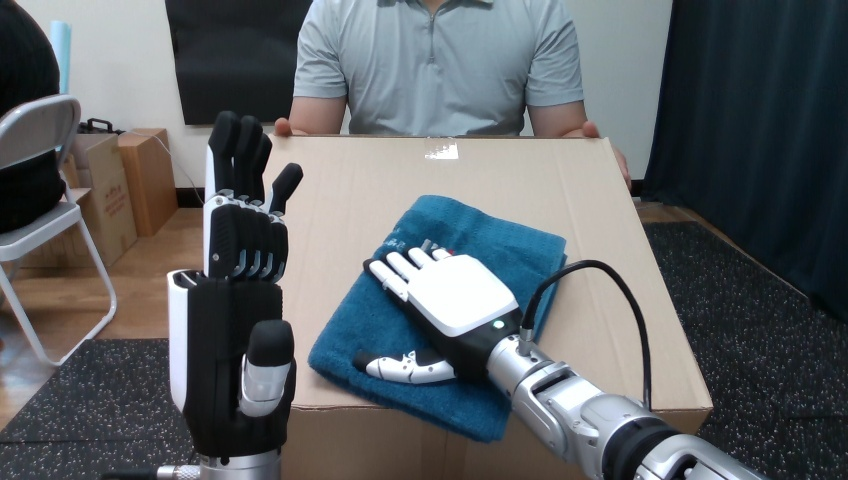left robot hand: (353, 247, 764, 479), (145, 112, 302, 479), (532, 267, 644, 401)
